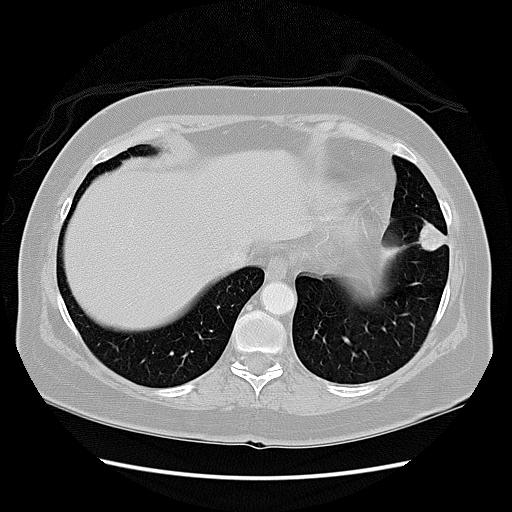nodule: (416, 221, 449, 254)
